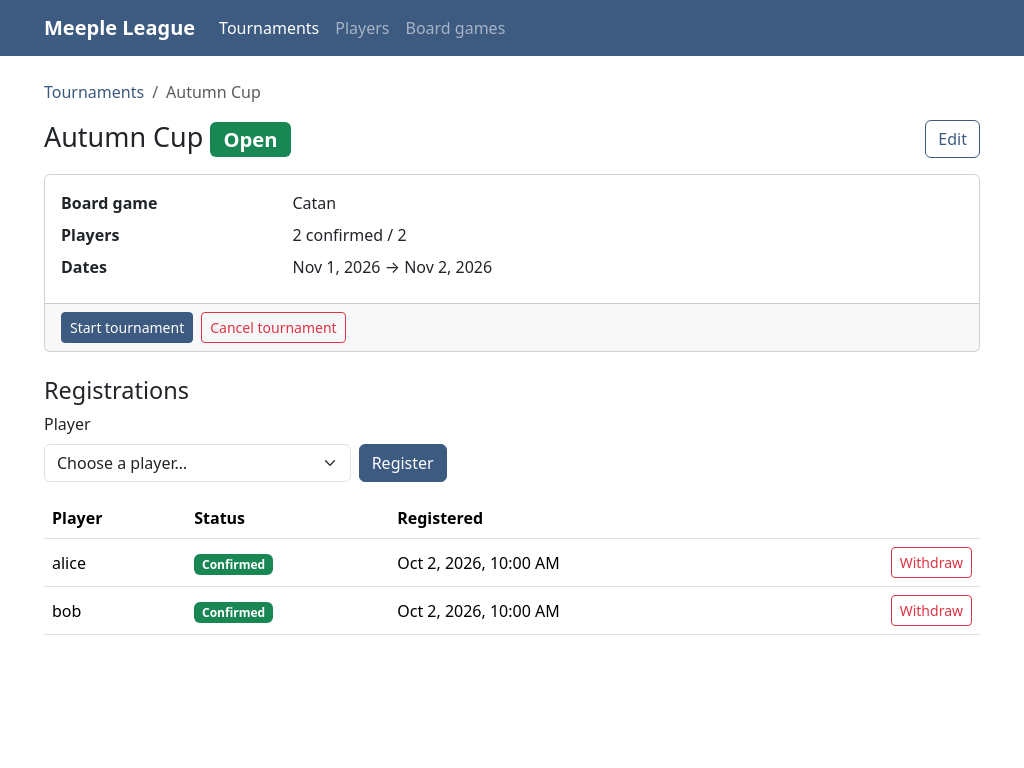
tournaments › shows the roster with the waitlist and registers a new player
Check: the text "2 confirmed / 2" is shown, box top-left (292, 224), bottom-right (407, 246)
Select "carol" in the dropdown labelled "Player" at (197, 463), box top-left (44, 444), bottom-right (351, 482)
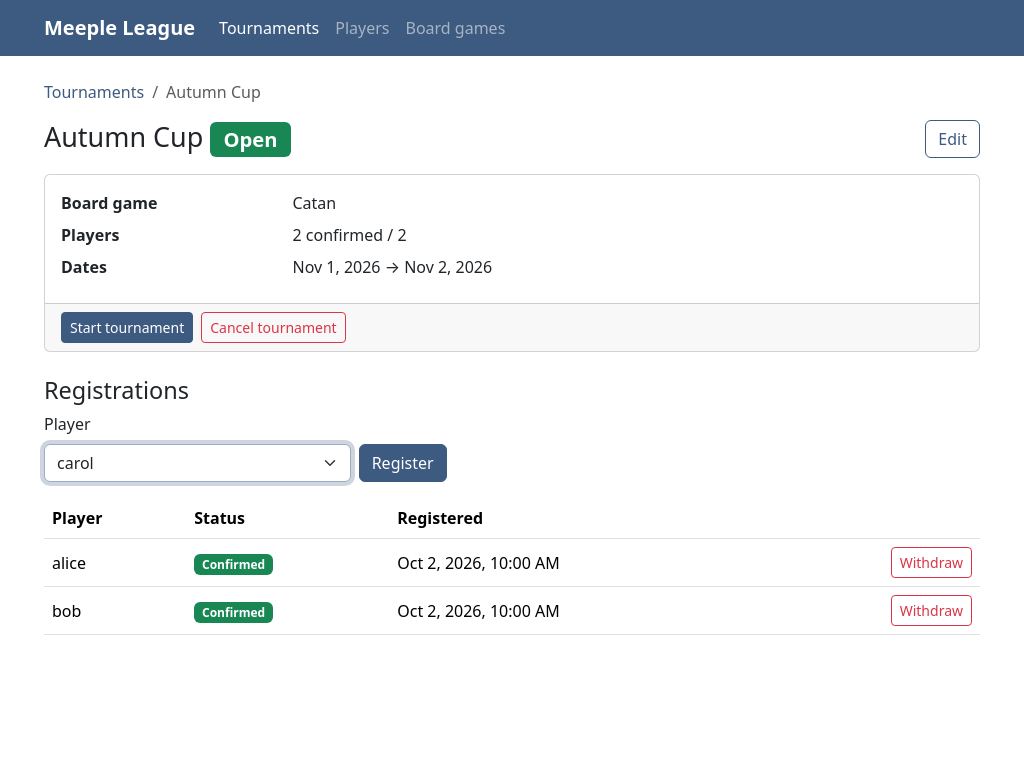
Click the button "Register" at (403, 463), box top-left (359, 444), bottom-right (447, 482)
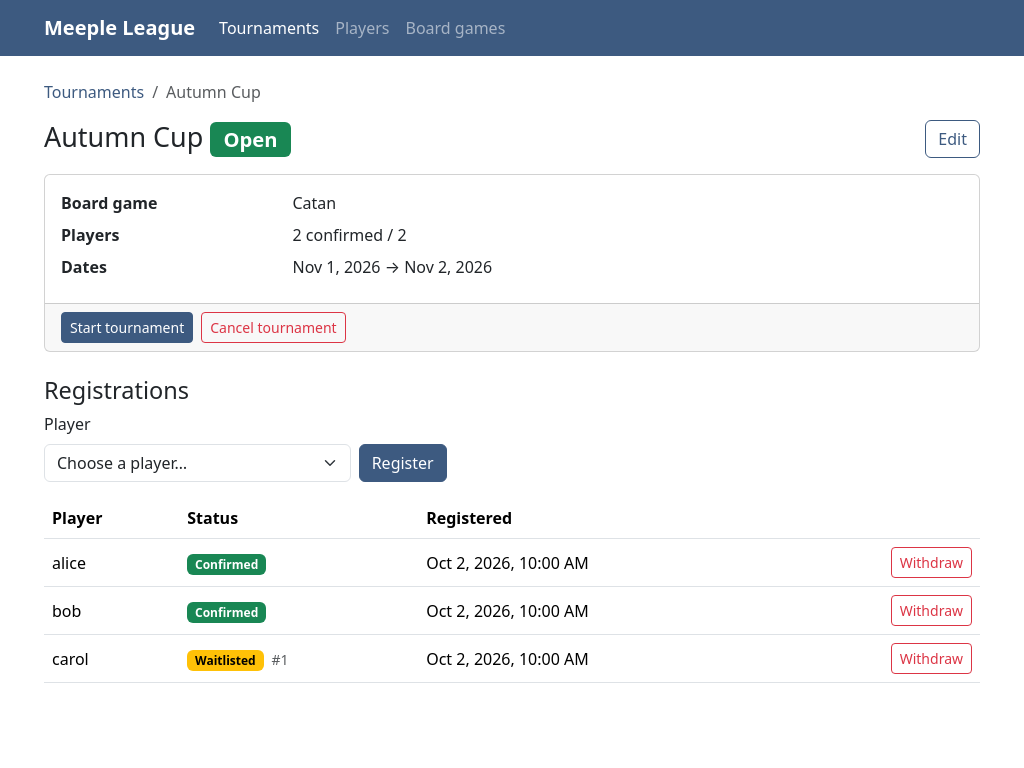
Check: the text "Waitlisted" is shown, box top-left (187, 650), bottom-right (264, 671)
Check: the text "#1" is shown, box top-left (272, 650), bottom-right (289, 669)
